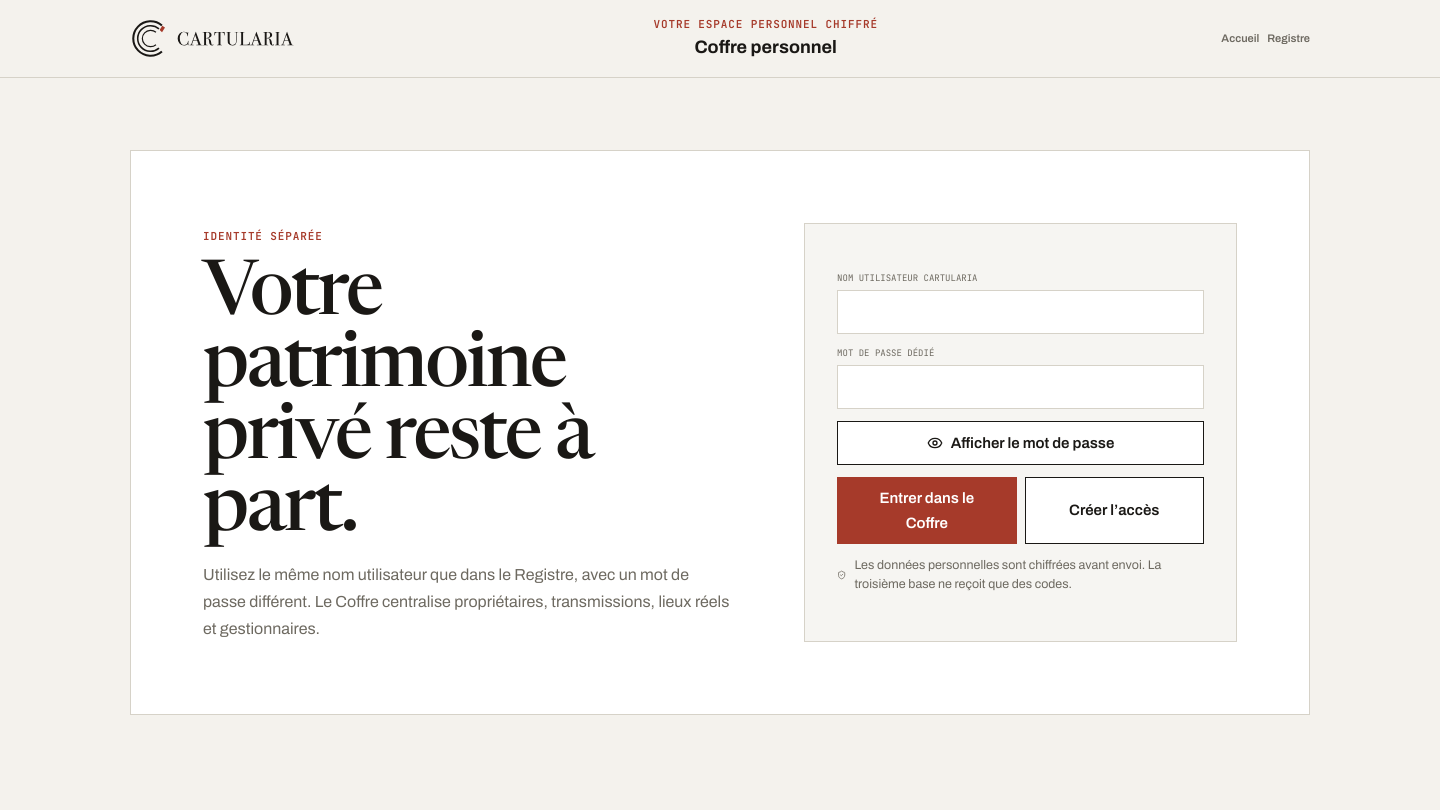
Test: conservation des saisies du Coffre › conserve les saisies après un échec et ne confirme aucune sauvegarde
In the field labelled "Nom utilisateur Cartularia": (1021, 312) [837,290,1204,334], type "Atlas"
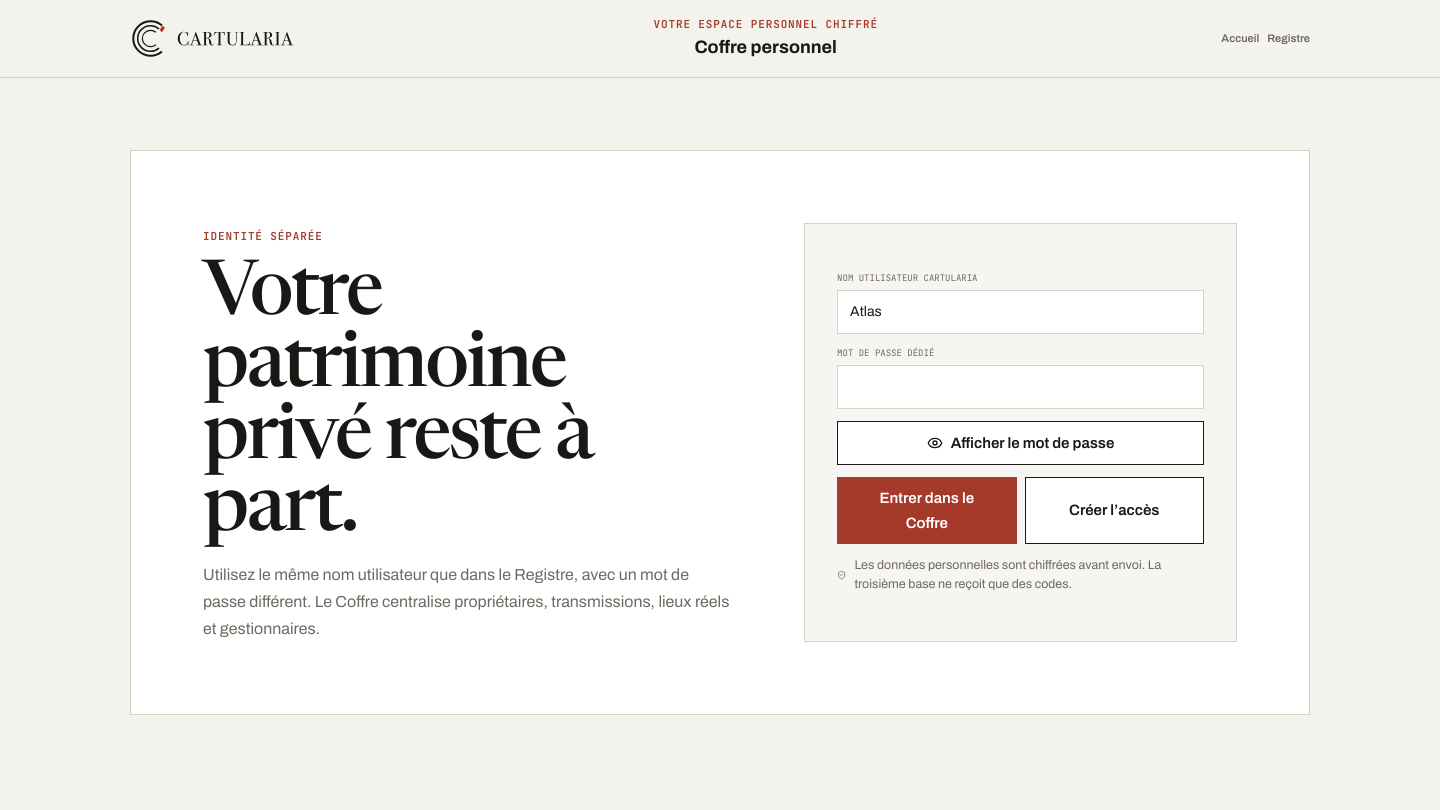
In the password field labelled "Mot de passe dédié": (1021, 387) [837,365,1204,409], type "valid-test-password"
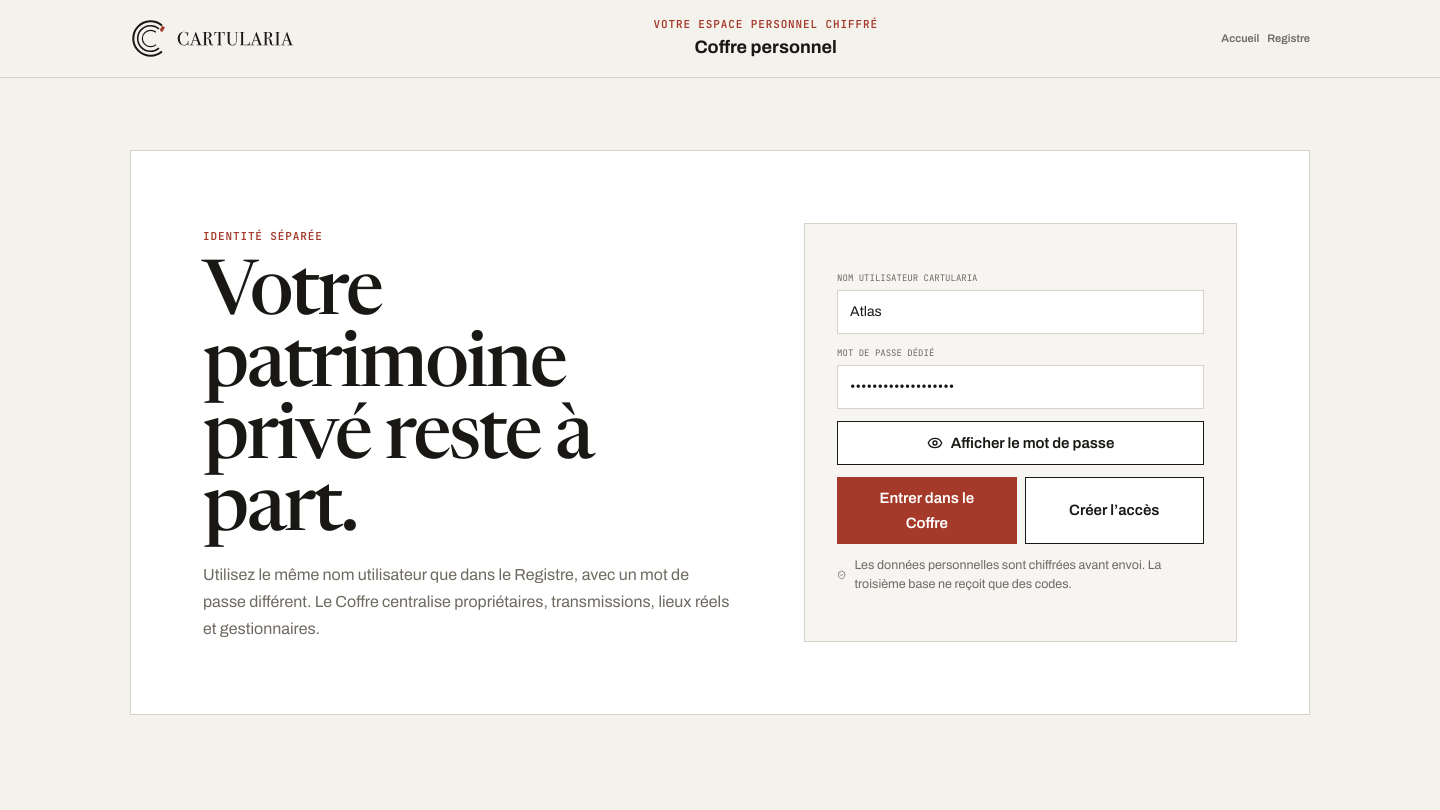
Click the button "Entrer dans le Coffre": (927, 511) [837,477,1017,544]
(page scrolled)
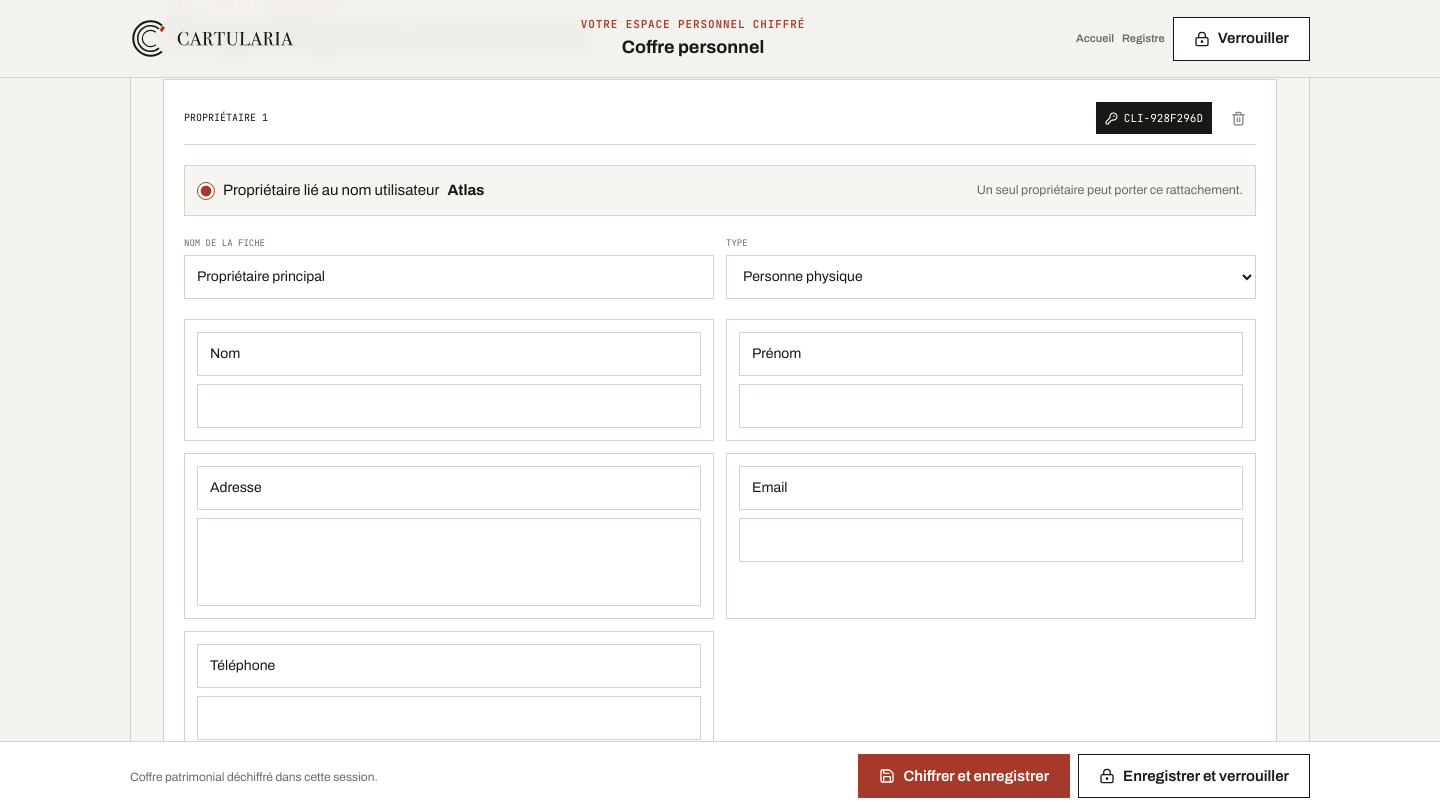
Now the heading "Propriétaires des biens" is shown, box [163,12,588,59]
In the field named "Nom": (449, 406) [197,384,701,428], type "À conserver"
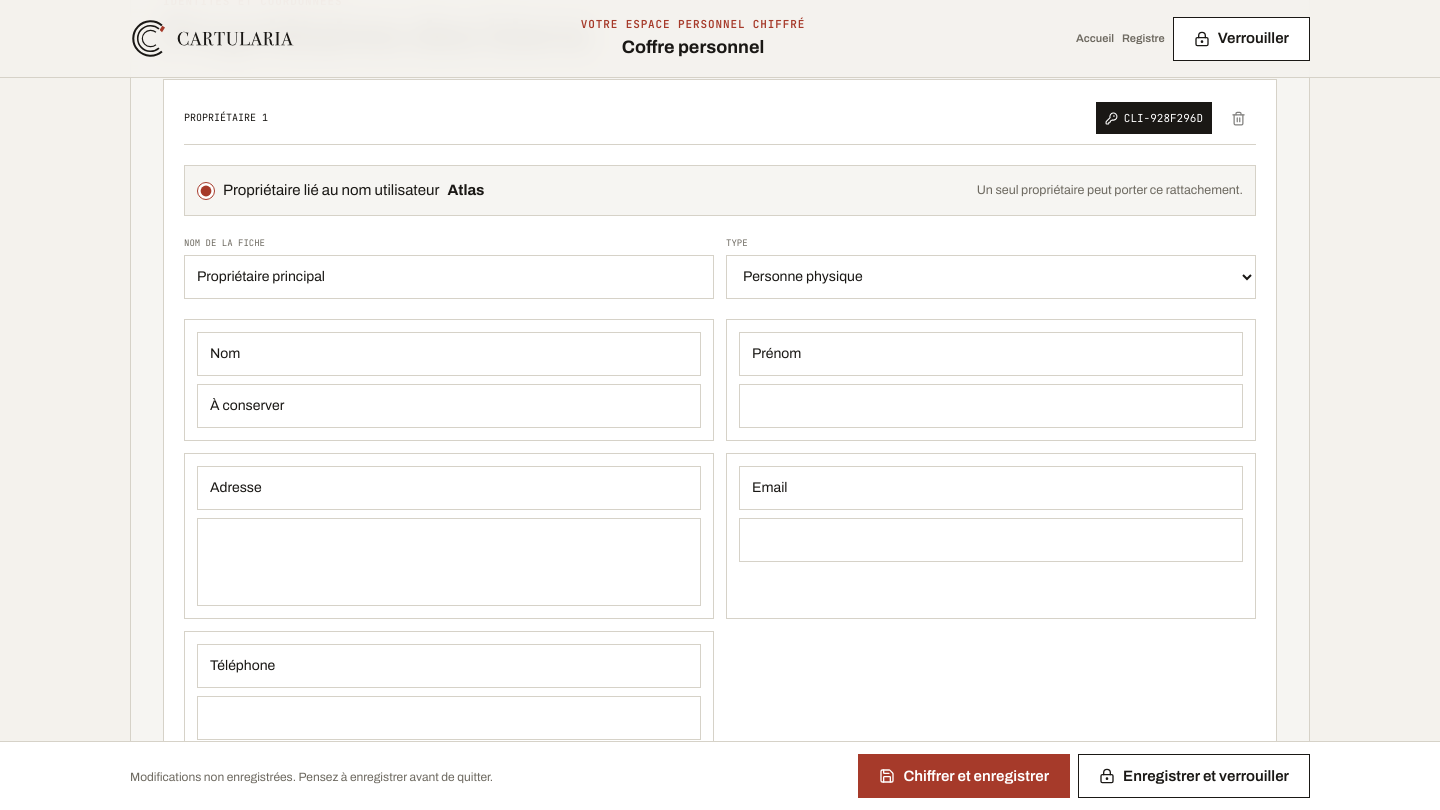
Click the button "Enregistrer et verrouiller": (1194, 776) [1078,754,1310,798]
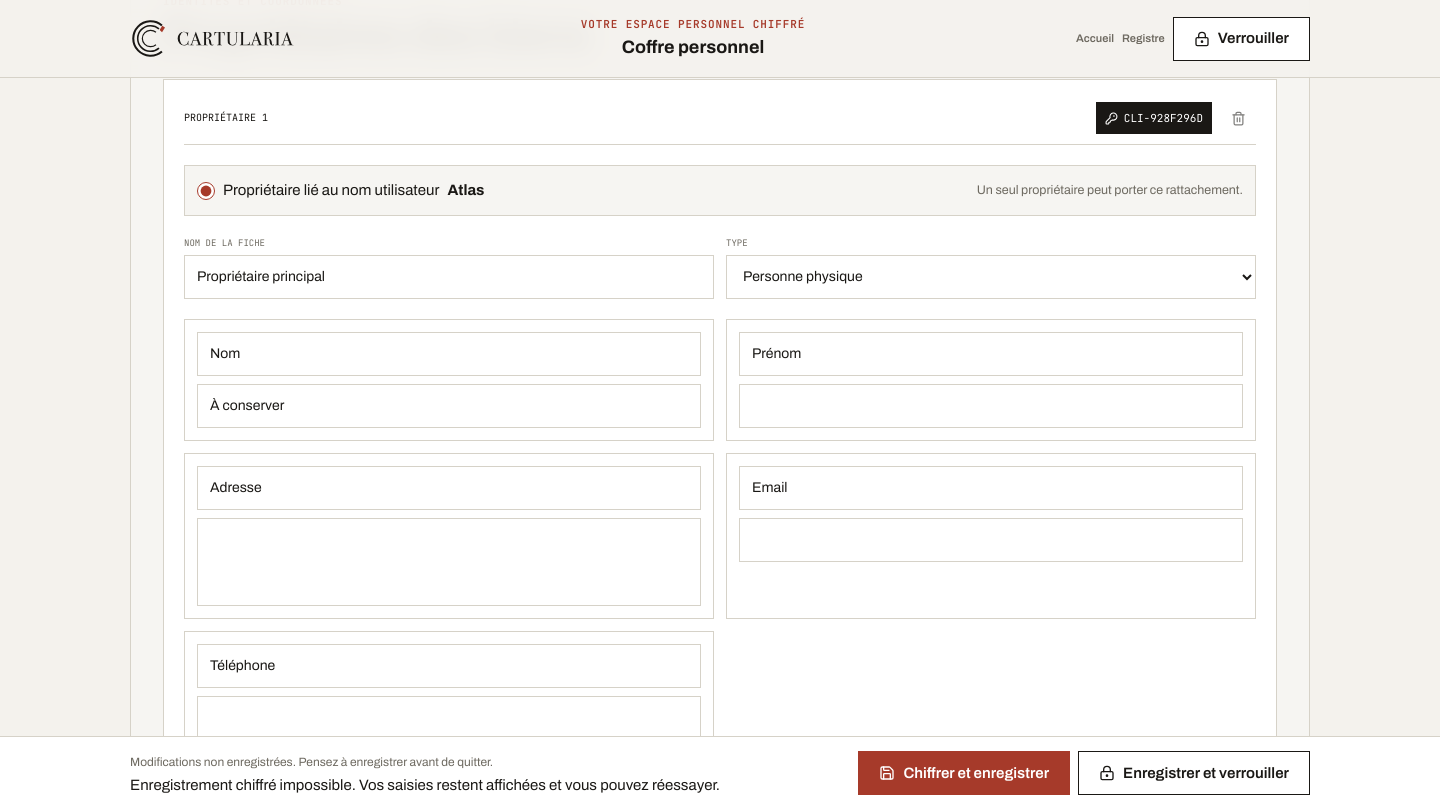
Now the 2nd message is shown, box [130,773,720,798]
